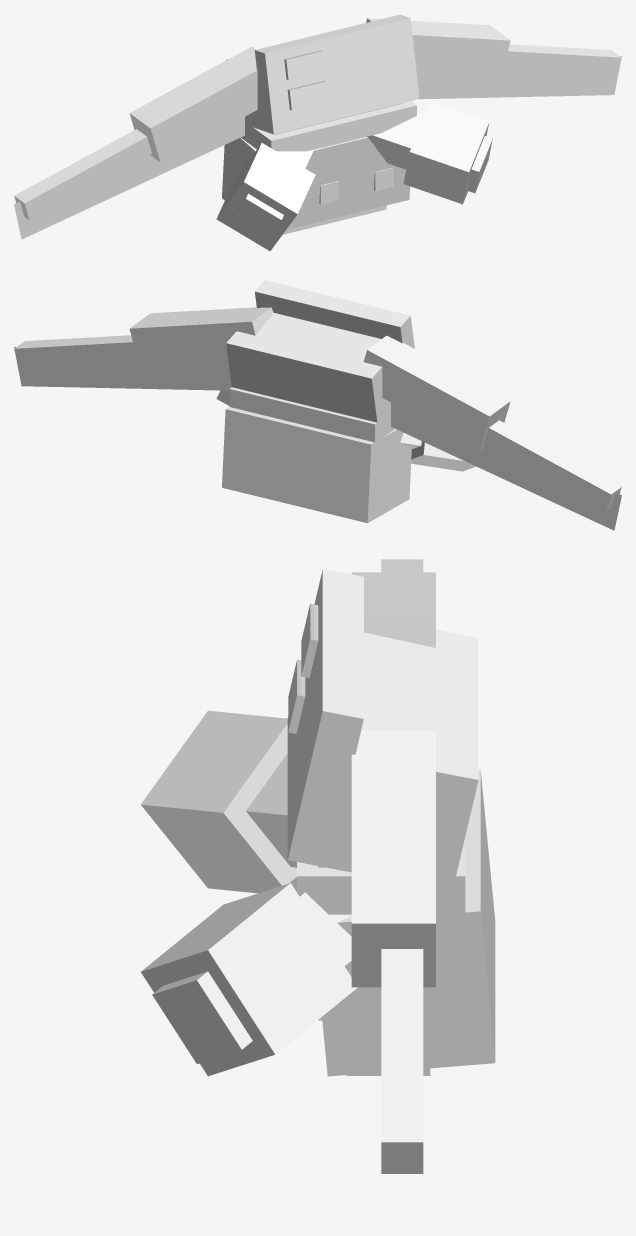
File: jetpack.obj
3 views of the same model, one above another, from view 1: azimuth 30°, elevation 25°; view 2: azimuth 150°, elevation 25°; view 3: azimuth 270°, elevation 25° (orthographic). The views are drawn at different scales.
Visible parts, largest first — view 1: jetpack:Packtop, jetpack:WingsupportL, jetpack:Packbottom, jetpack:Thrusterright, jetpack:WingsupportR, jetpack:Thrusterleft, jetpack:WingbladeR, jetpack:WingbladeL, jetpack:ExtendosupportL, jetpack:Packmid, jetpack:ExtendosupportR, jetpack:Fueltuberight (+7 smaller); view 2: jetpack:Packbottom, jetpack:Packtoprear, jetpack:WingsupportL, jetpack:WingsupportR, jetpack:WingbladeR, jetpack:WingbladeL, jetpack:Packtop, jetpack:ExtendosupportL, jetpack:Packmid, jetpack:ExtendosupportR, jetpack:Thrusterleft; view 3: jetpack:WingsupportR, jetpack:Thrusterright, jetpack:Thrusterleft, jetpack:Packbottom, jetpack:Packtoprear, jetpack:Packtop, jetpack:ExtendosupportR, jetpack:Fueltuberight, jetpack:WingsupportL, jetpack:Packmid, jetpack:Fueltubeleft, jetpack:Packdoodad2 (+1 smaller).
Part boxes in pixels (x1,y1,x2,y2): jetpack:Packtop: (254,14,419,134); jetpack:WingsupportL: (129,46,257,162); jetpack:Packbottom: (222,137,409,229); jetpack:Thrusterright: (403,102,489,204); jetpack:WingsupportR: (366,18,510,79); jetpack:Thrusterleft: (216,143,315,251); jetpack:WingbladeR: (417,56,621,99); jetpack:WingbladeL: (14,117,244,239); jetpack:ExtendosupportL: (14,129,151,220); jetpack:Packmid: (241,101,416,151); jetpack:ExtendosupportR: (503,44,621,77); jetpack:Fueltuberight: (367,112,492,193); jetpack:Packbottom: (222,407,411,523); jetpack:Packtoprear: (226,313,390,422); jetpack:WingsupportL: (363,335,510,450); jetpack:WingsupportR: (129,307,273,367); jetpack:WingbladeR: (14,347,231,390); jetpack:WingbladeL: (391,402,621,530); jetpack:Packtop: (254,280,414,348); jetpack:ExtendosupportL: (484,420,621,511); jetpack:Packmid: (229,387,394,443); jetpack:ExtendosupportR: (14,335,137,368); jetpack:Thrusterleft: (411,441,475,471); jetpack:WingsupportR: (351,730,435,987); jetpack:Thrusterright: (141,883,357,1076); jetpack:Thrusterleft: (141,710,296,893); jetpack:Packbottom: (322,769,495,1076); jetpack:Packtoprear: (329,629,478,891); jetpack:Packtop: (287,569,363,867); jetpack:ExtendosupportR: (381,949,423,1173); jetpack:Fueltuberight: (152,877,351,1064); jetpack:WingsupportL: (351,572,435,647); jetpack:Packmid: (297,837,465,914); jetpack:Fueltubeleft: (246,753,296,867); jetpack:Packdoodad2: (301,603,318,677).
Bounding box in the file's own units: 2.09 × 0.6275 × 0.527.
